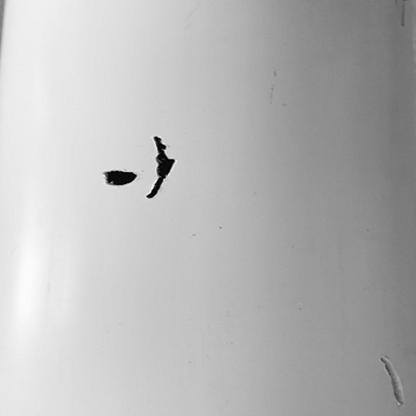kongdong: (146, 136, 178, 200), (104, 167, 139, 187)
sunshang: (378, 355, 406, 404)
